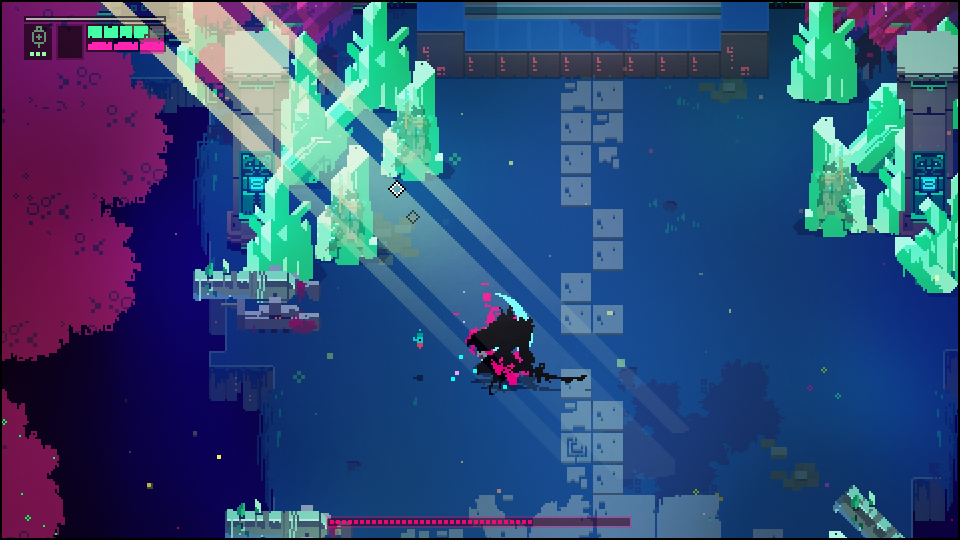hanged_man: (473, 312, 579, 393)
